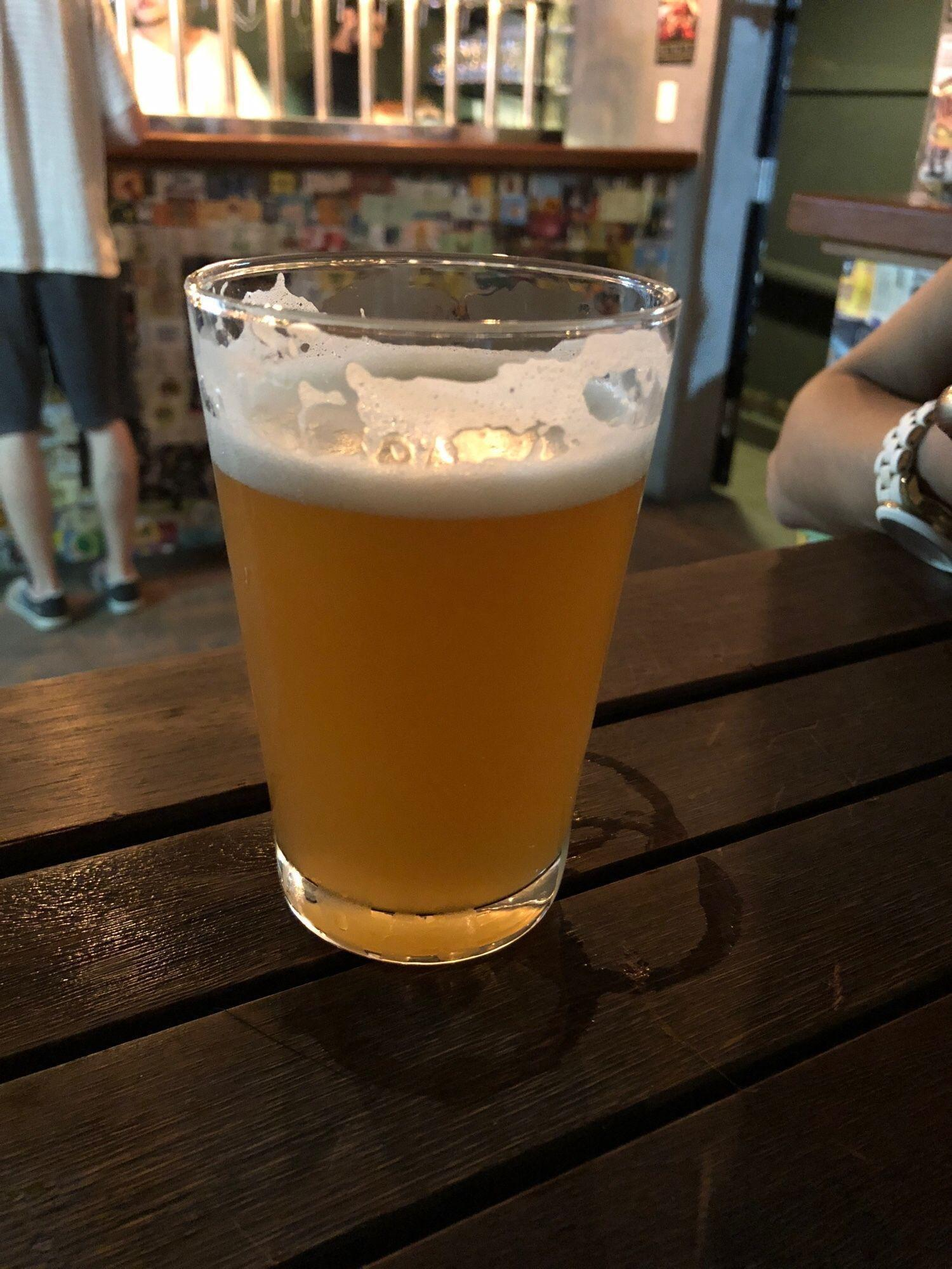glass-normal: (180, 244, 685, 982)
